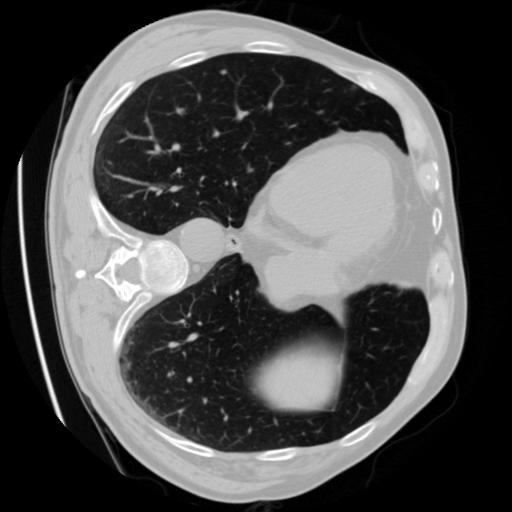nodule: (218, 67, 231, 80)
